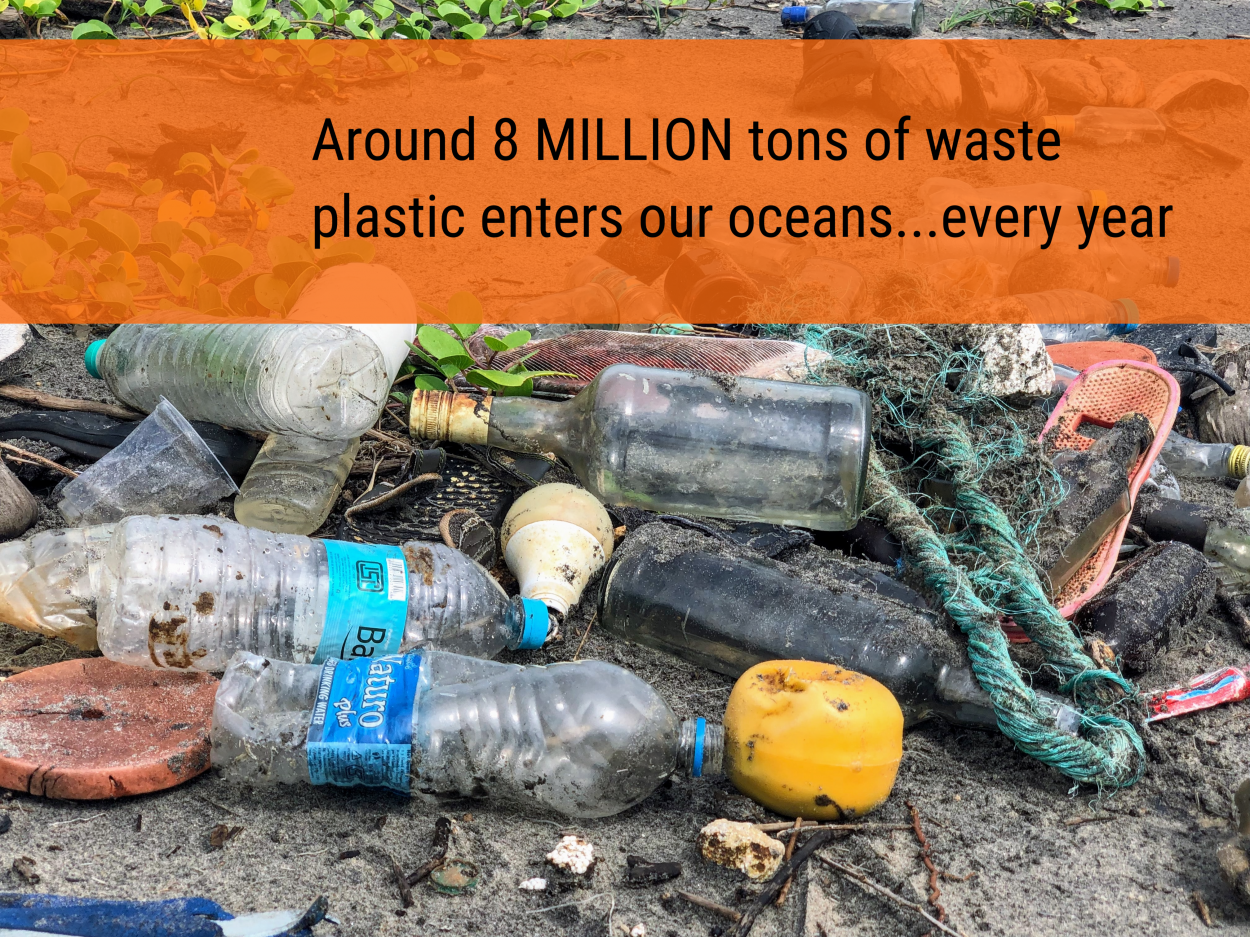plastic_bottle: (76, 194, 668, 736), (140, 593, 862, 895), (43, 250, 494, 484)
